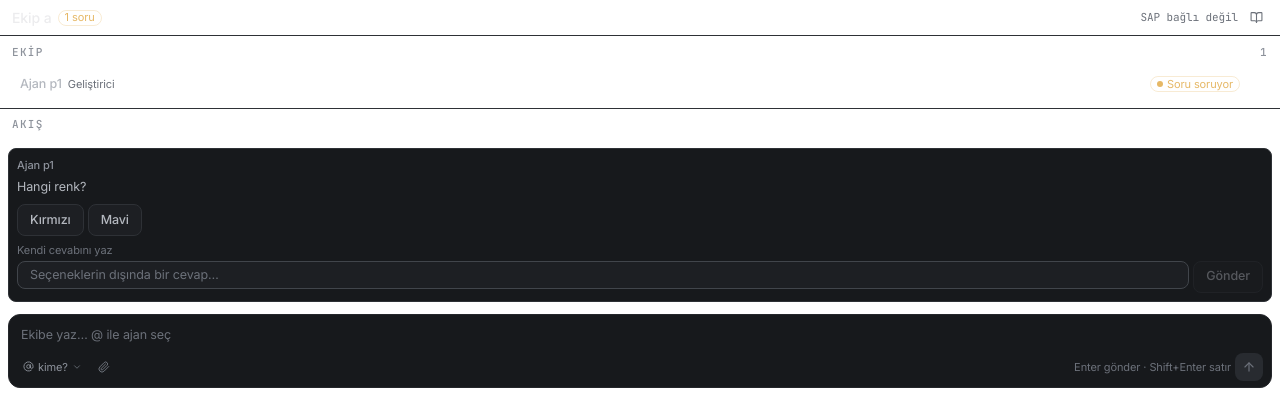
Test case: serbest cevap — soru kartı › seçeneklerin altında kutu; tek satıra indirilip gönderilir, sonra kilitlenir
The image size is (1280, 405).
Type "  Yeşil   zeytin " into the field labelled "Kendi cevabını yaz". click: (603, 275)
box: 17,261 -> 1189,289
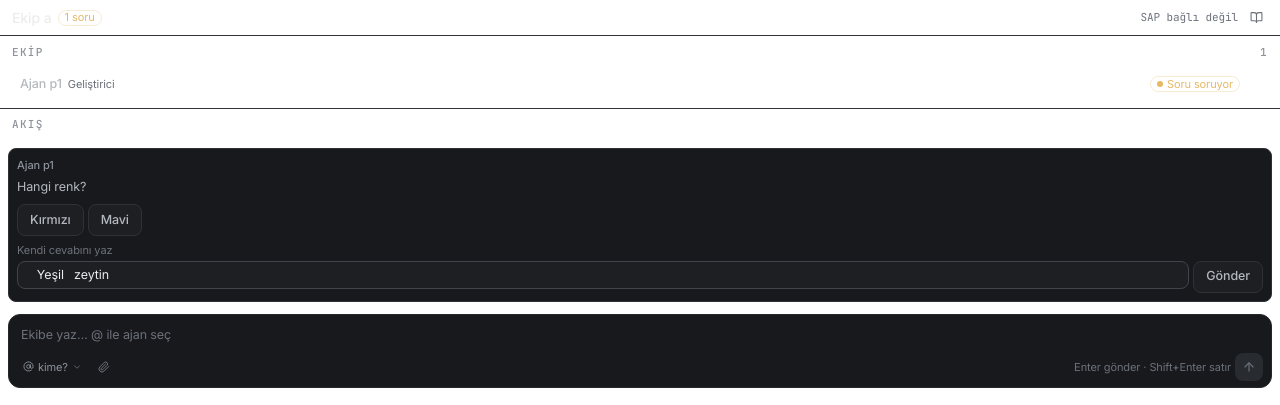
Click the button "Gönder". click: click(1228, 277)
box: 1193,261 -> 1263,293
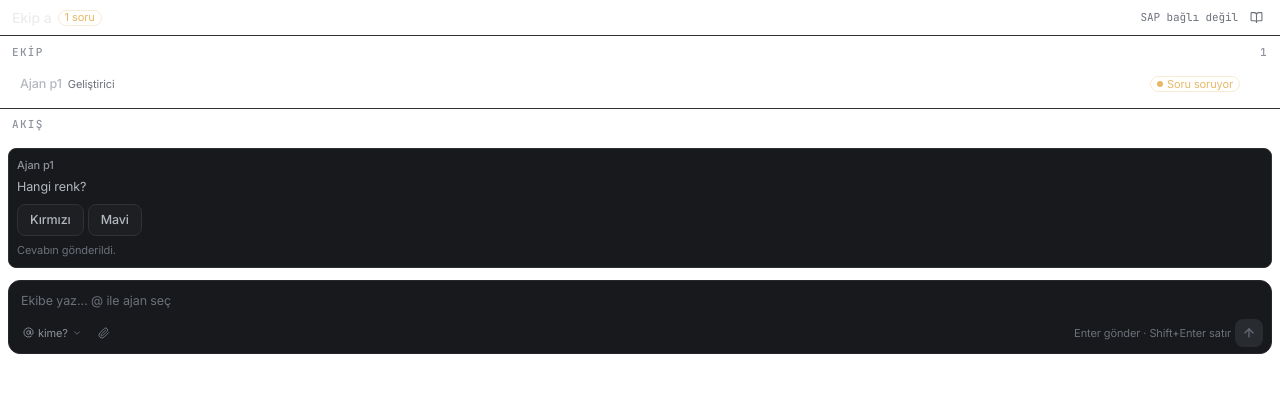
Now the text "Cevabın gönderildi." is shown, box 17,243 -> 116,257
Now the label labelled "Kendi cevabını yaz" is gone
